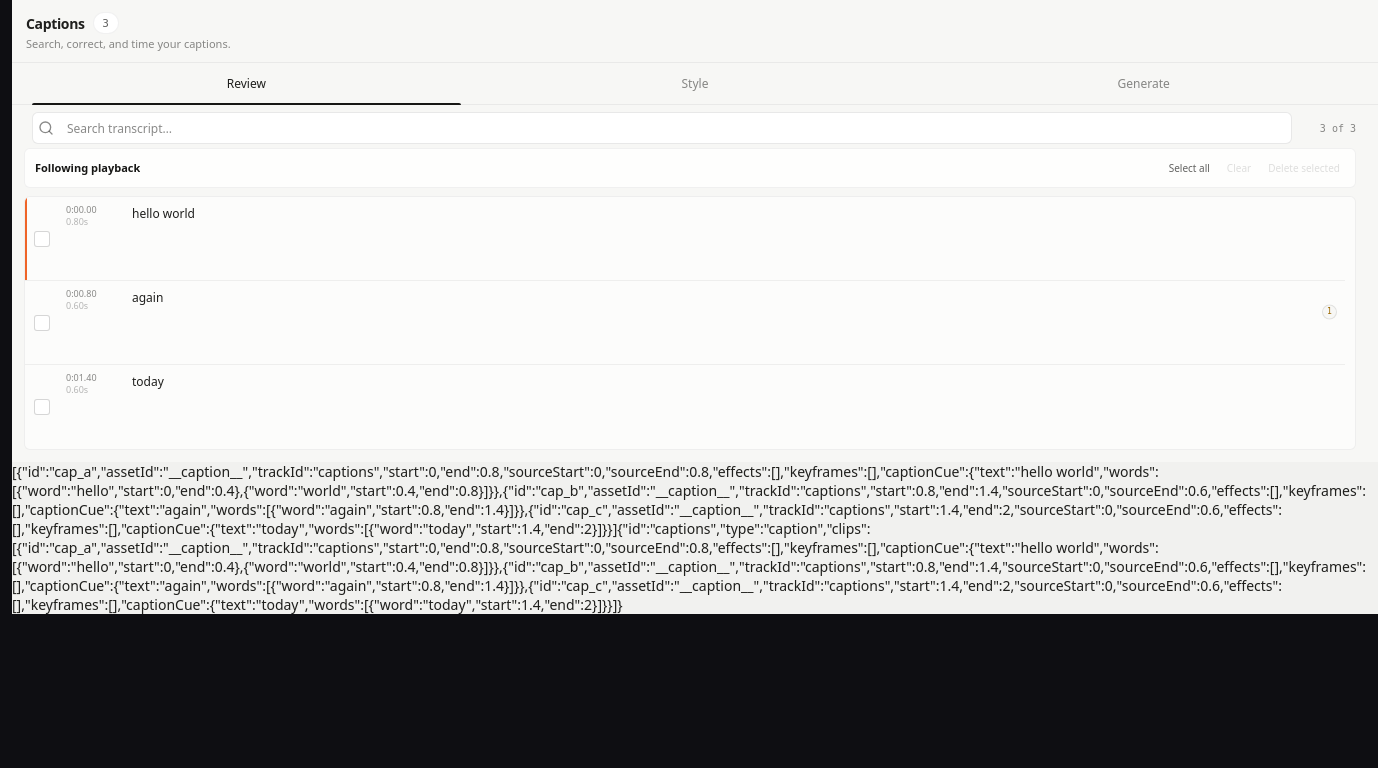
Scenario: CaptionWorkspace workflow › supports range selection and communicates the affected scope
Click the button named "Edit caption \"hello world\"" at (163, 213), box [128,201,1340,254]
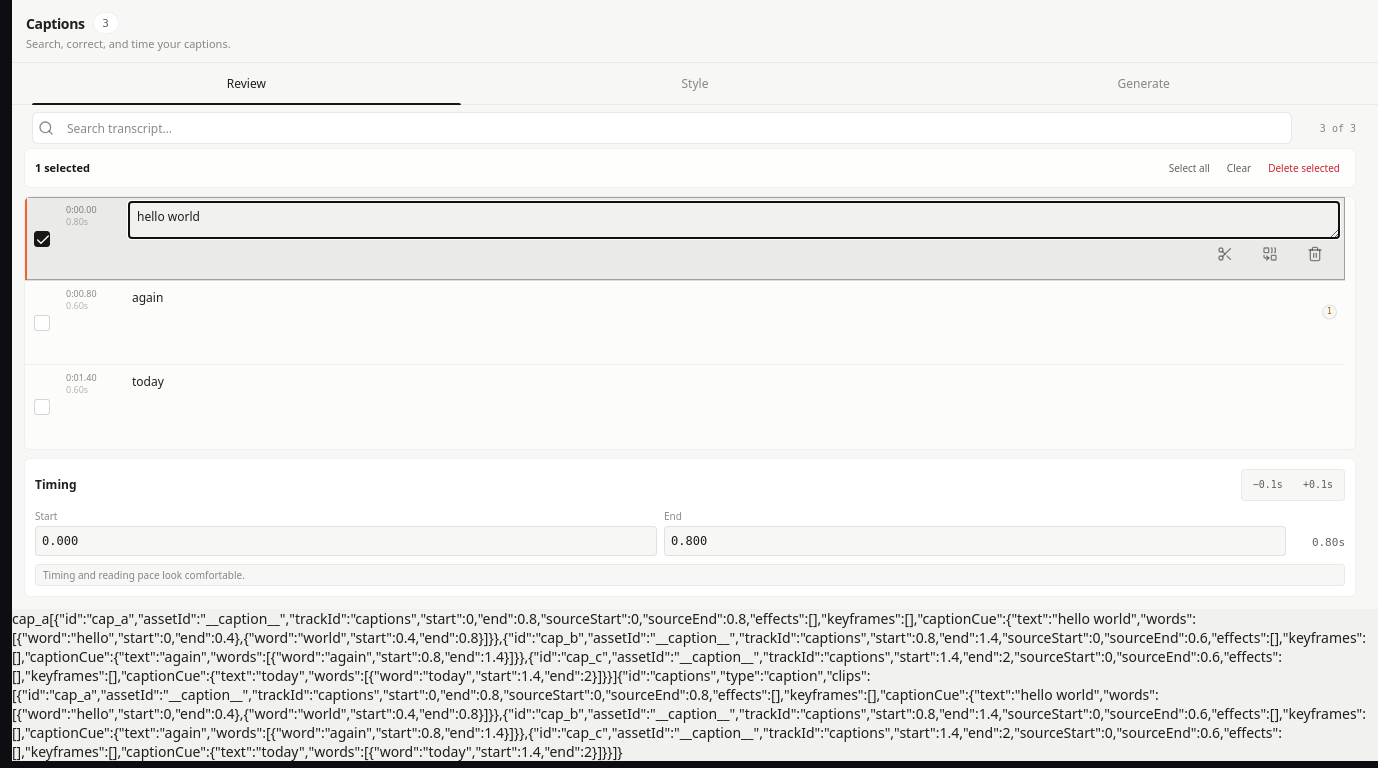
Leave the text box named "Caption text at", box [128,201,1340,239]
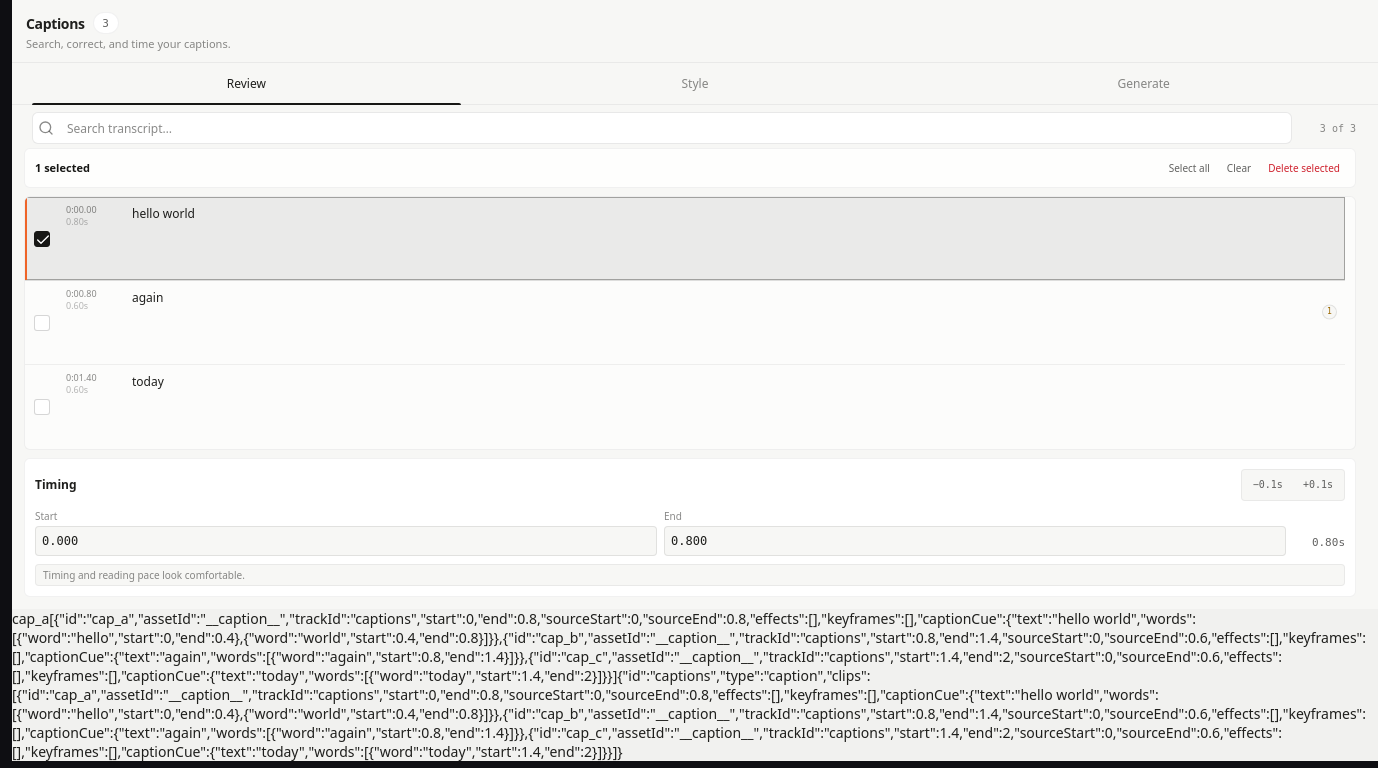
Click the button "today" at (148, 381), box [128,369,1340,422]
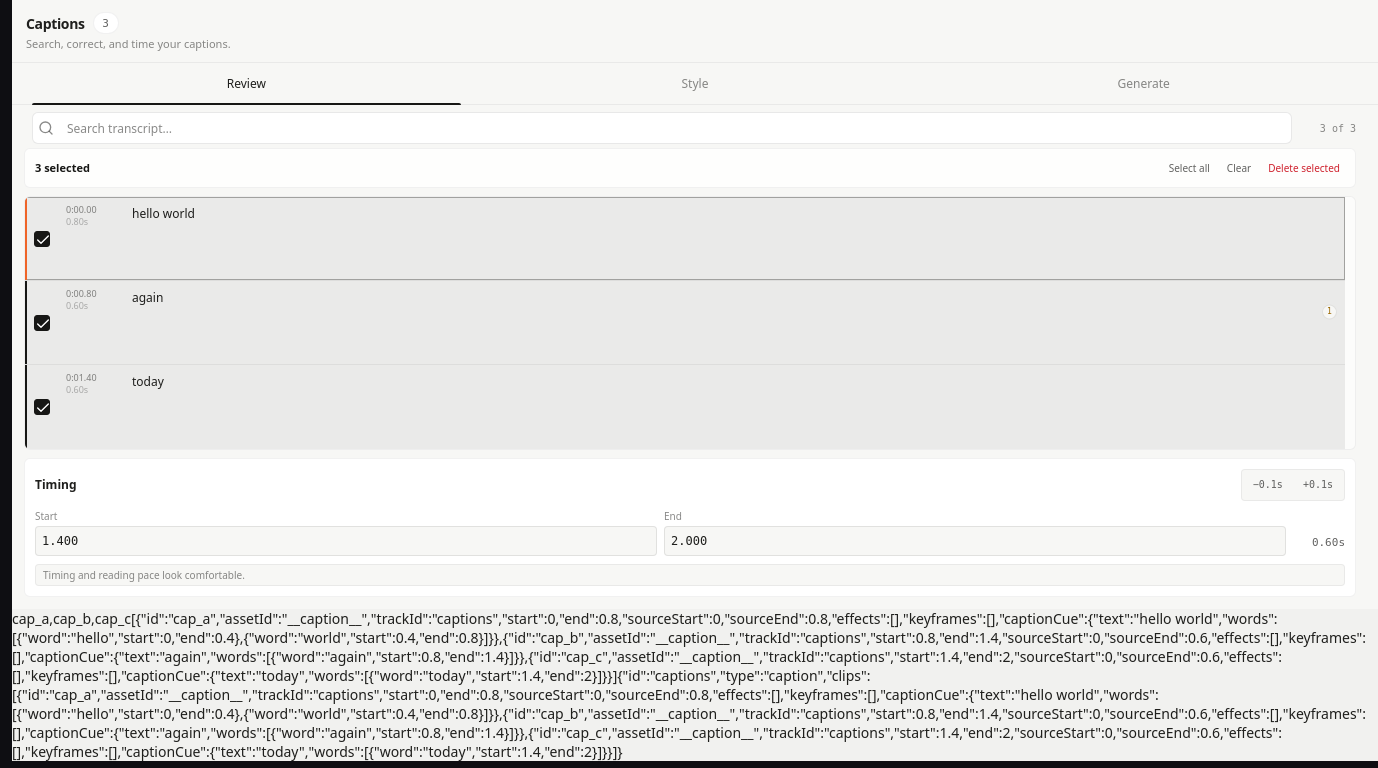
Expected: the text with test id "selection" shows "cap_a", [12,609,131,628]
Expected: the text "3 selected" is shown, [35,160,90,175]
Expected: the text with test id "selection" shows "cap_c", [12,609,131,628]
